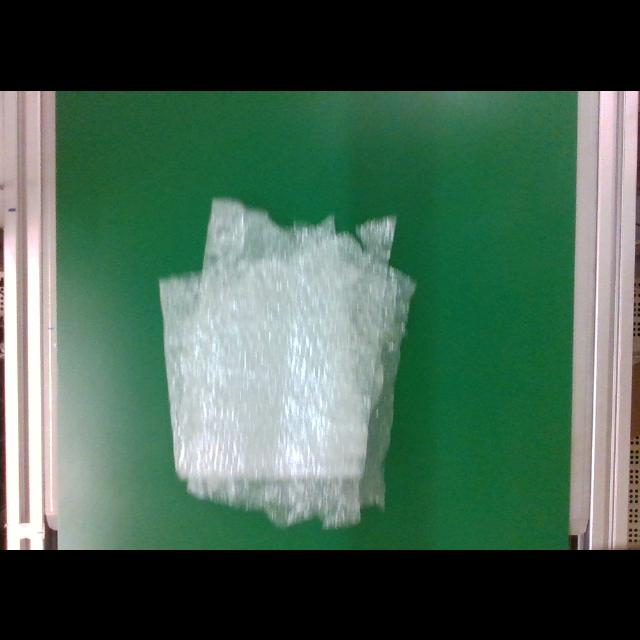scrap_plastic: (156, 192, 420, 532)
